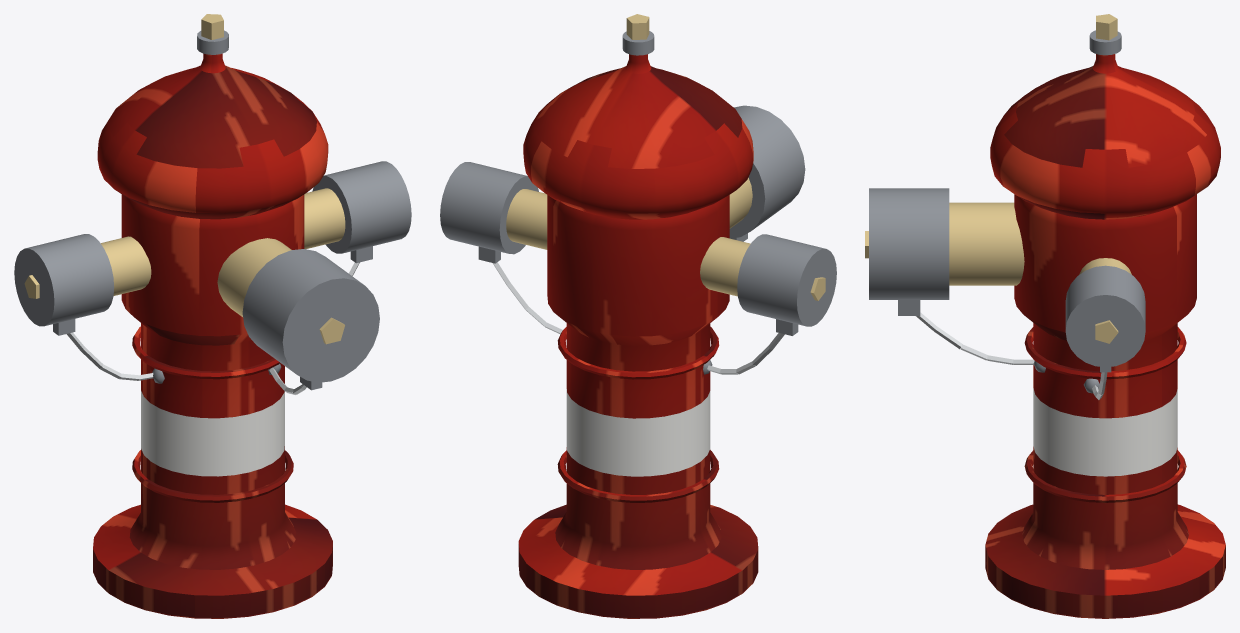
Rendered from FireHydrant.fbx.
The picture shows the model from 3 angles, left to right: view 1: azimuth 30°, elevation 25°; view 2: azimuth 150°, elevation 25°; view 3: azimuth 270°, elevation 25°; orthographic projection.
Parts seen in each view (by area): view 1: LOD0; view 2: LOD0; view 3: LOD0.
Part boxes in pixels (left/top/right/bottom): LOD0: left=14, top=14, right=411, bottom=618; LOD0: left=440, top=14, right=836, bottom=618; LOD0: left=865, top=14, right=1225, bottom=618.
Size of what is drawn, in the model's own units: 52.4 by 75.6 by 45.
